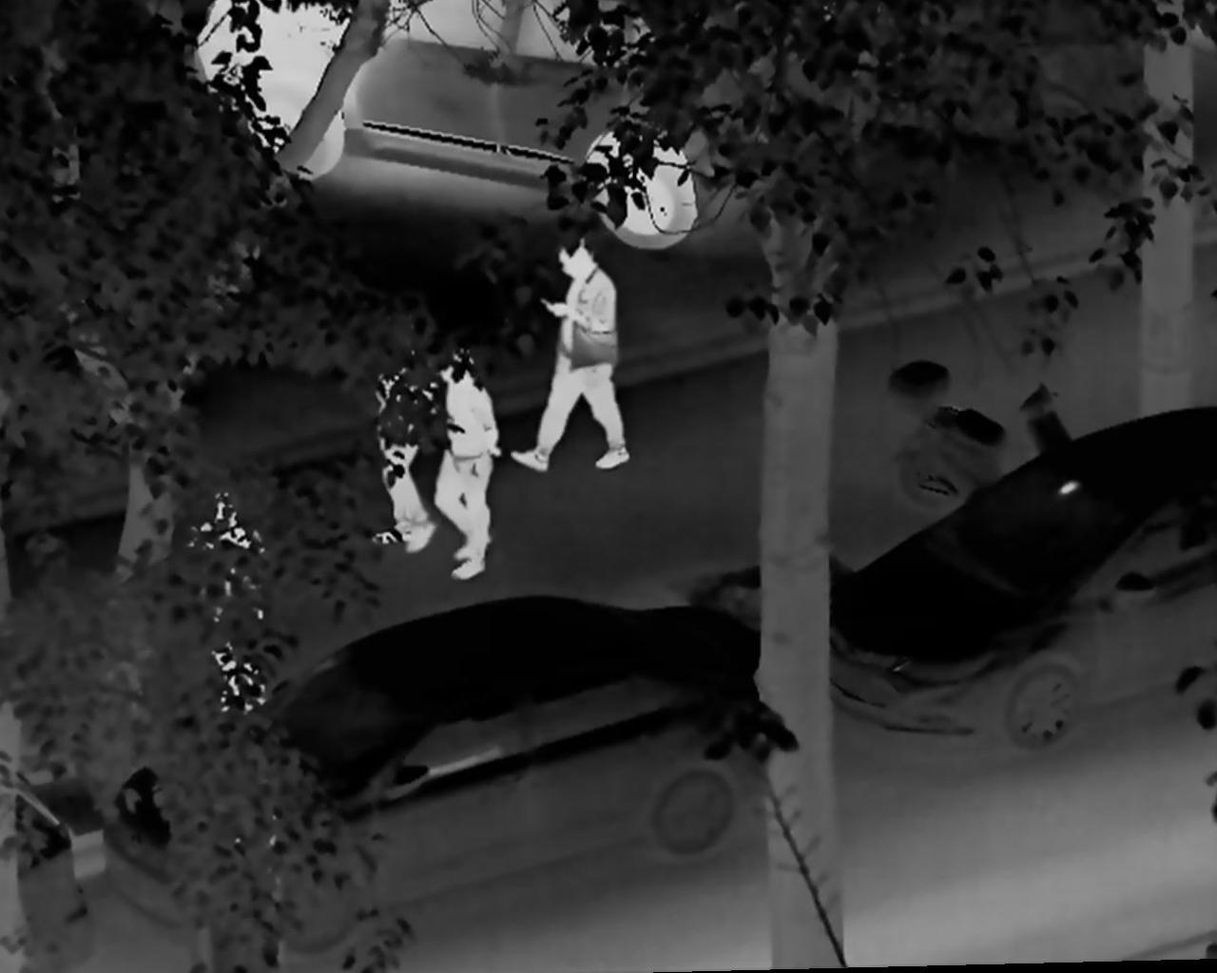person: (506, 235, 633, 474), (179, 484, 274, 724), (358, 331, 442, 555), (429, 344, 502, 585)
